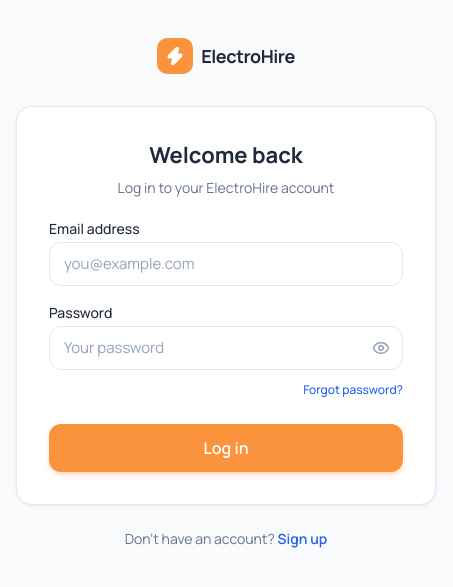
Test: LoginPage › shows a validation error for both empty fields on submit
Click the button "Log in": (226, 448) [49,424,403,472]
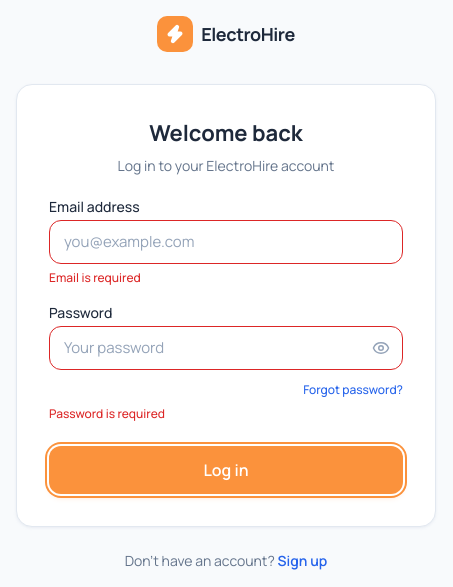
Expected: the text "Email is required" is shown, [49,268,141,286]
Expected: the text "Password is required" is shown, [49,404,165,422]
